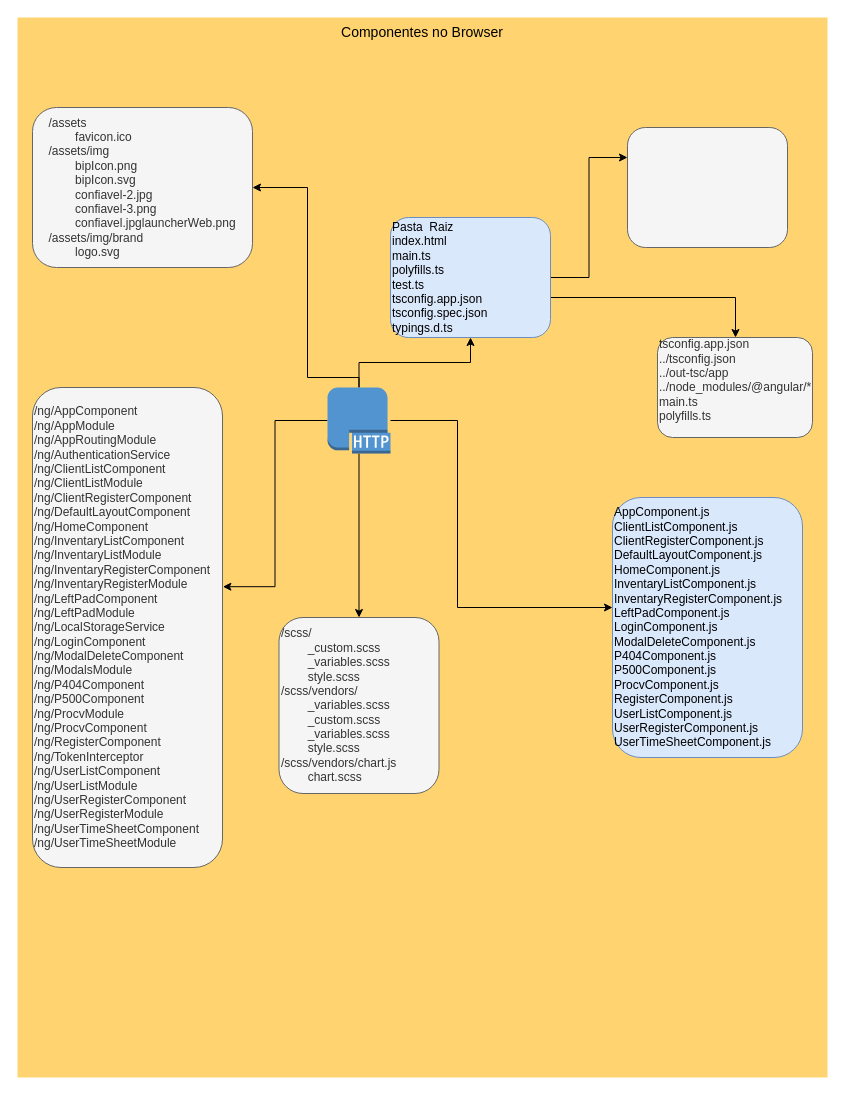
Image size: 844x1094. Some labels were removed from this diagram. The shapes that lost their labels are listed below. From the top down, each one's centre as x and y in pixels, then its label:
At point (707, 187): "main.ts /environments environment.prod.ts environment.ts /app/ app.module.ts".
At point (358, 420): "http://localhost:4200/#/home".
